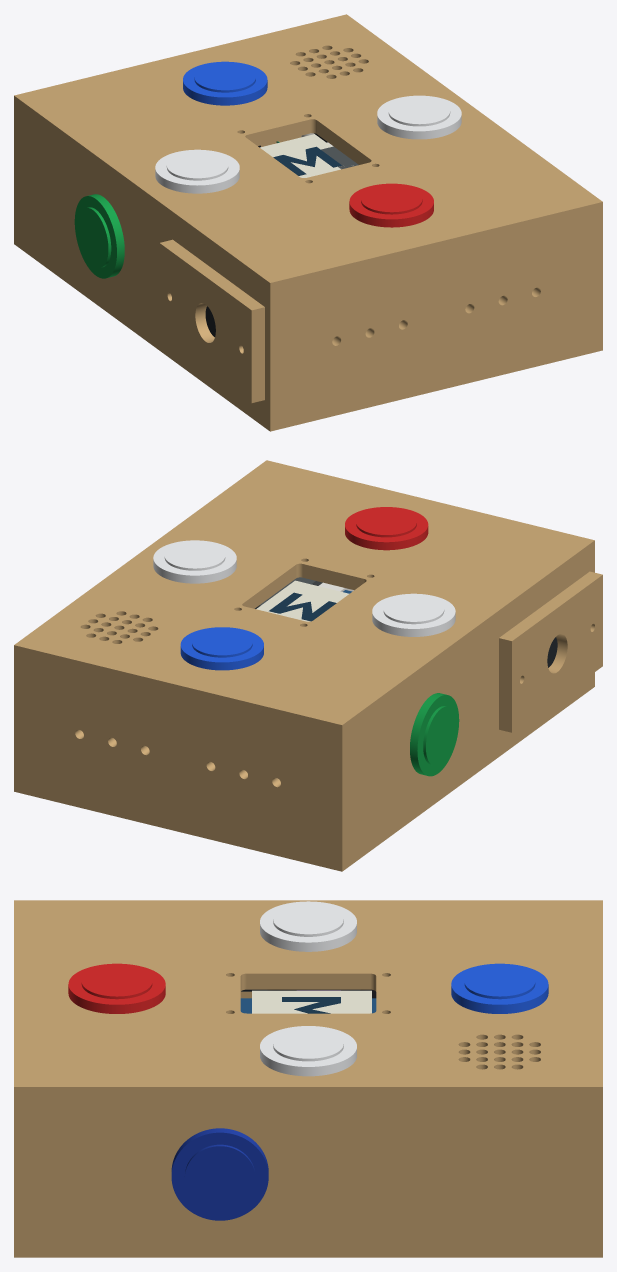
File: enclosure.glb
The picture shows the model from 3 angles, top to bottom: view 1: azimuth 30°, elevation 25°; view 2: azimuth 150°, elevation 25°; view 3: azimuth 270°, elevation 25°; orthographic projection. The views are drawn at different scales.
Visible parts, largest first — view 1: enclosure (×7); view 2: enclosure (×7); view 3: enclosure (×7).
Boxes of the visible parts, left/top/right/bottom form: enclosure (×7): left=14, top=14, right=602, bottom=431; enclosure (×7): left=14, top=460, right=602, bottom=871; enclosure (×7): left=14, top=900, right=602, bottom=1257.
Bounding box in the file's own units: 0.1608 × 0.0685 × 0.2.
